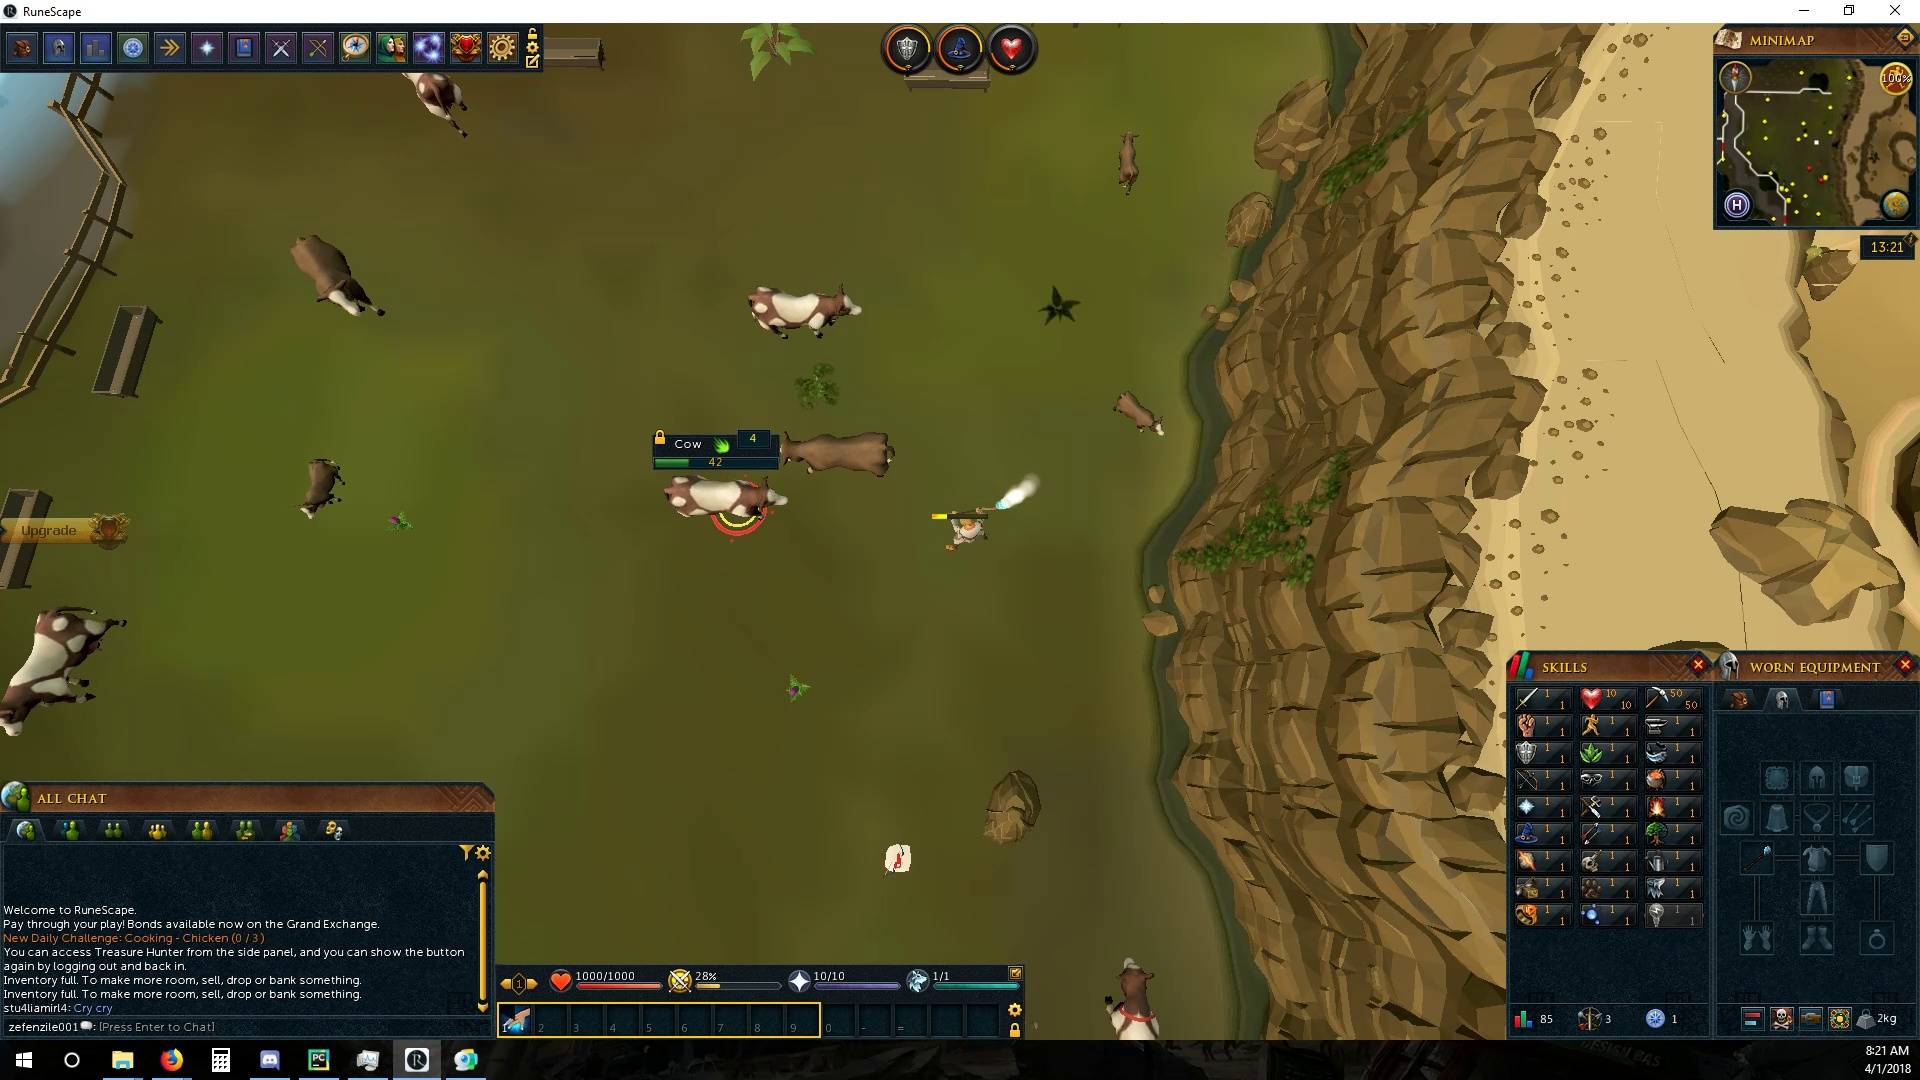calf: (295, 455, 348, 526), (1112, 390, 1170, 438), (1116, 128, 1143, 196)
cow: (1, 605, 133, 738), (291, 232, 386, 326), (744, 280, 864, 342), (661, 475, 790, 522), (1100, 953, 1174, 1036), (781, 429, 898, 480)
cow_drop: (877, 839, 915, 878)
